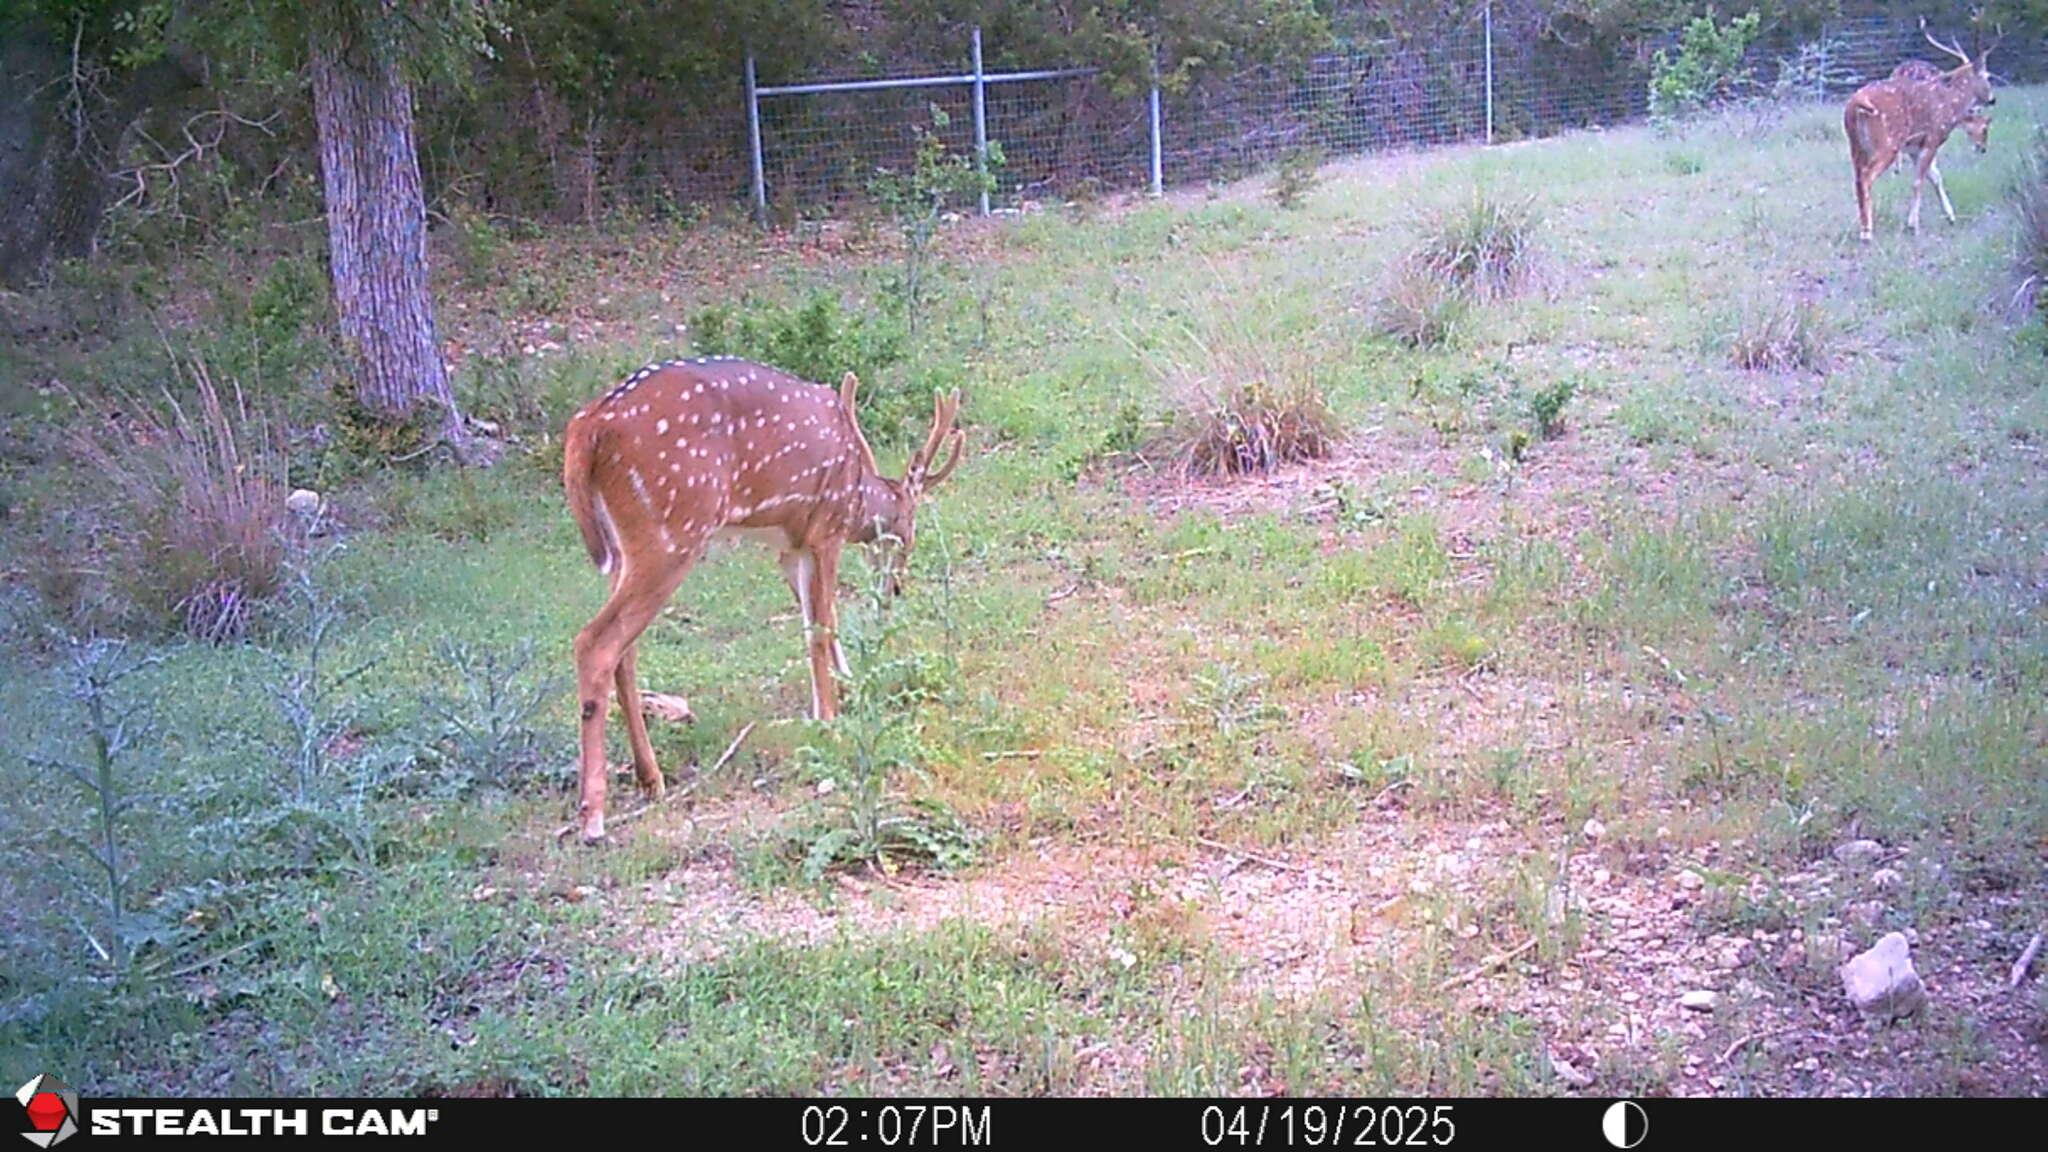Deer: (563, 356, 965, 840), (1843, 60, 1990, 241)
